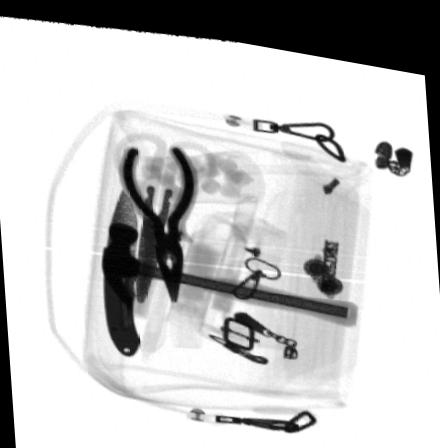Hammer: (100, 216, 357, 313)
Knife: (101, 184, 141, 353)
Pliers: (116, 135, 199, 297)
Scissors: (110, 126, 219, 299)
